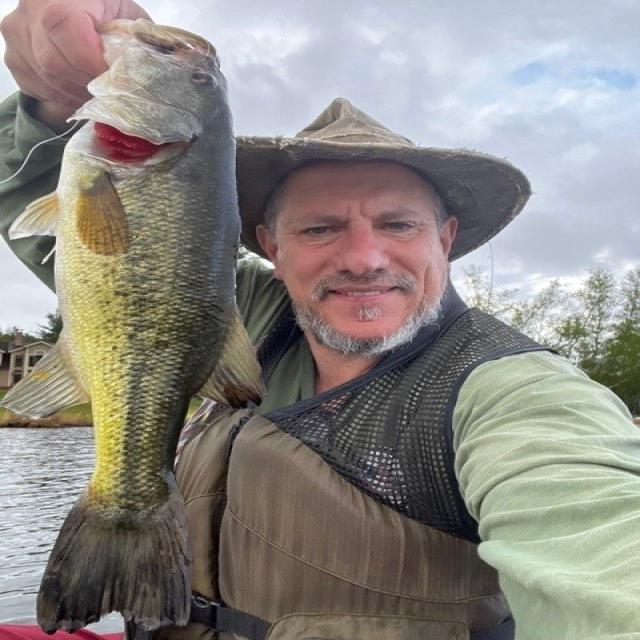Bass - Largemouth: (9, 19, 261, 630)
